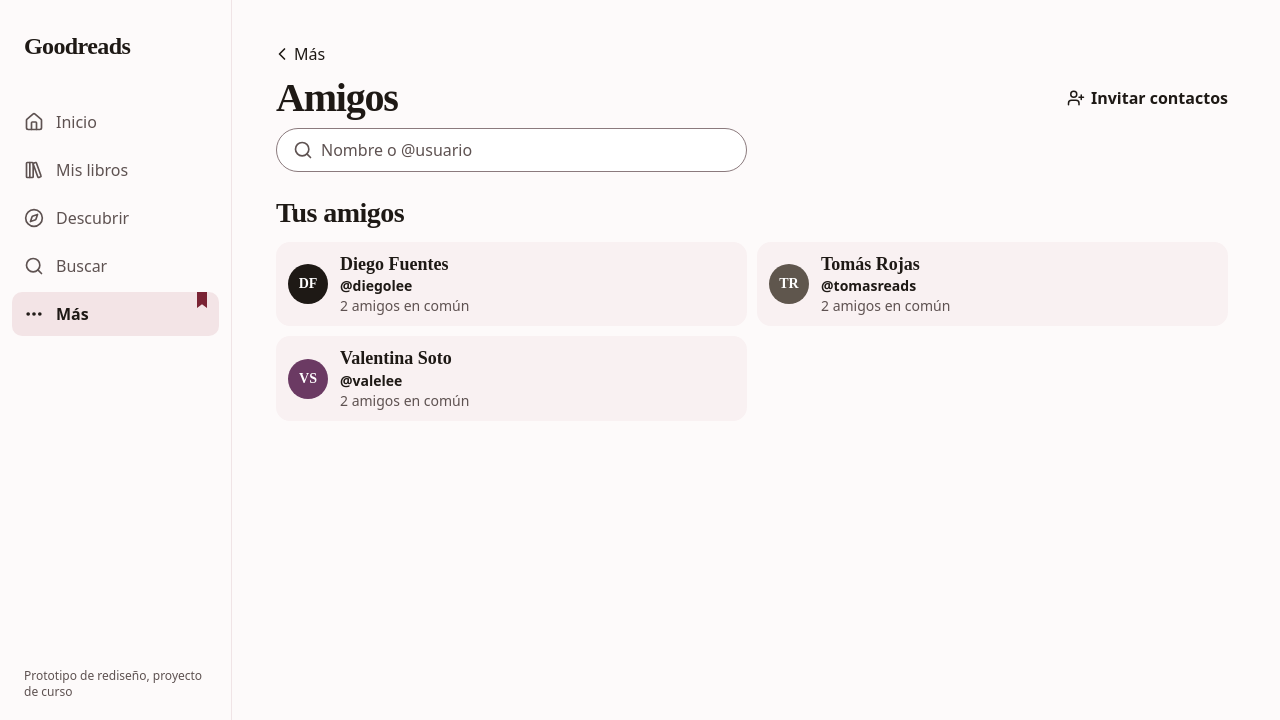
Test: FriendsPage search › says when nobody matches
Type "zzz" into the search field named "Buscar personas". click: (534, 150)
box: [321,128,746,172]
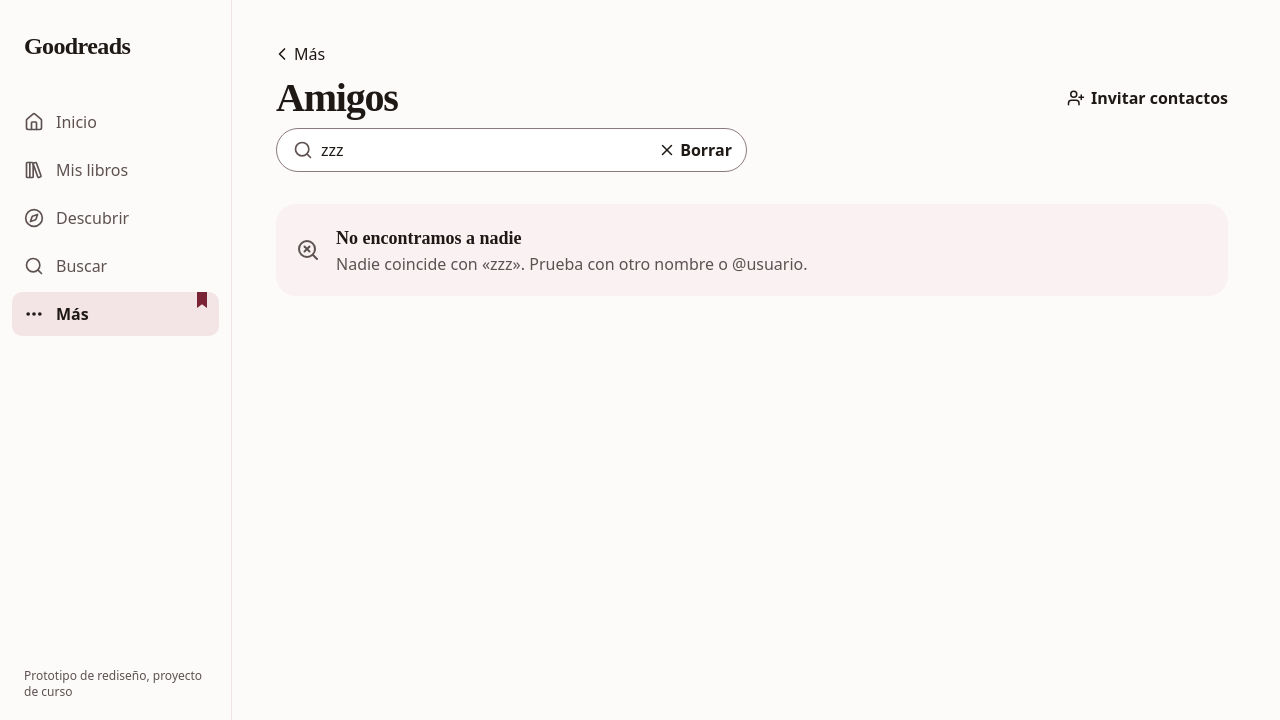
Expected: the heading "No encontramos a nadie" is shown, [336,228,522,248]
Expected: the text "Nadie coincide con «zzz». Prueba con otro nombre o @usuario." is shown, [336,253,808,275]
